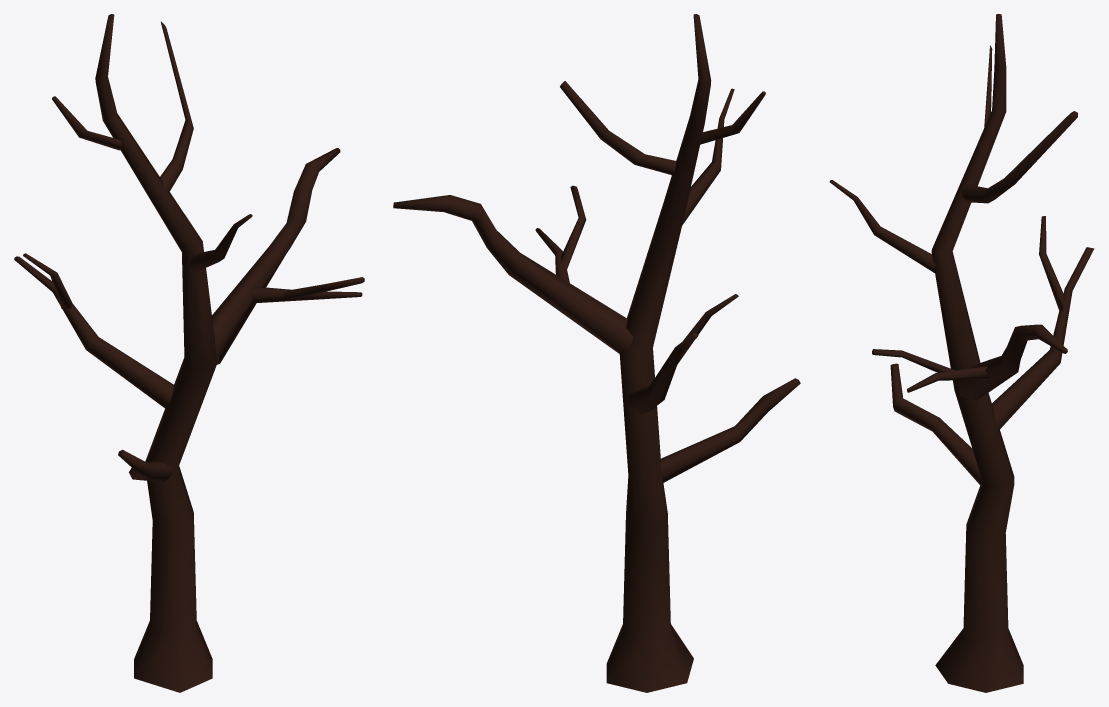
The model's file is Arbol.obj.
3 renders of one model, left to right at view 1: azimuth 30°, elevation 25°; view 2: azimuth 150°, elevation 25°; view 3: azimuth 270°, elevation 25°, orthographic. The views are drawn at different scales.
Parts seen in each view (by area): view 1: Tree_Mesh.012; view 2: Tree_Mesh.012; view 3: Tree_Mesh.012.
Part boxes in pixels (x1,y1,x2,y2): Tree_Mesh.012: (14, 14, 364, 692); Tree_Mesh.012: (393, 14, 800, 692); Tree_Mesh.012: (829, 14, 1094, 692).
Size of the model in its own units: 2.33 by 4.51 by 1.71.
